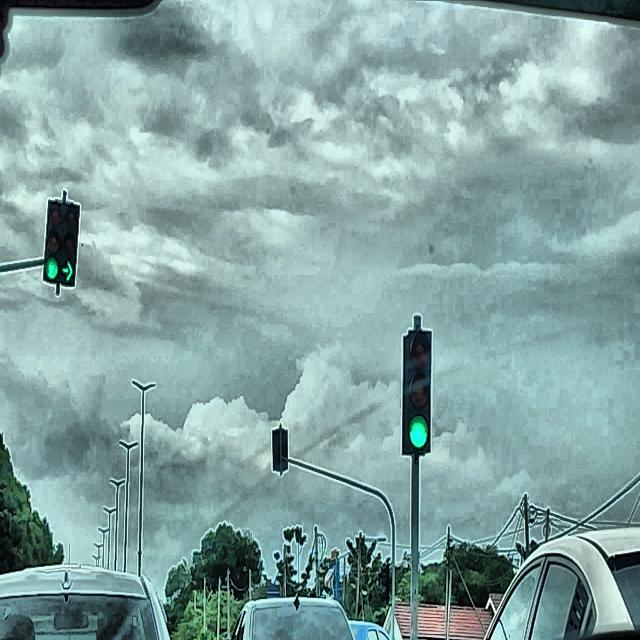green: (405, 329, 432, 454), (60, 202, 80, 286), (42, 200, 62, 282)
